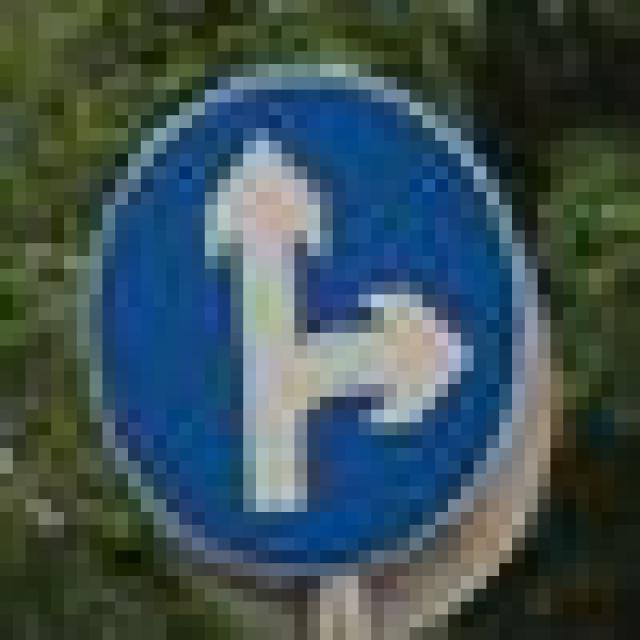COMPULSARY_AHEAD_OR_TURN_RIGHT: (99, 76, 528, 560)
